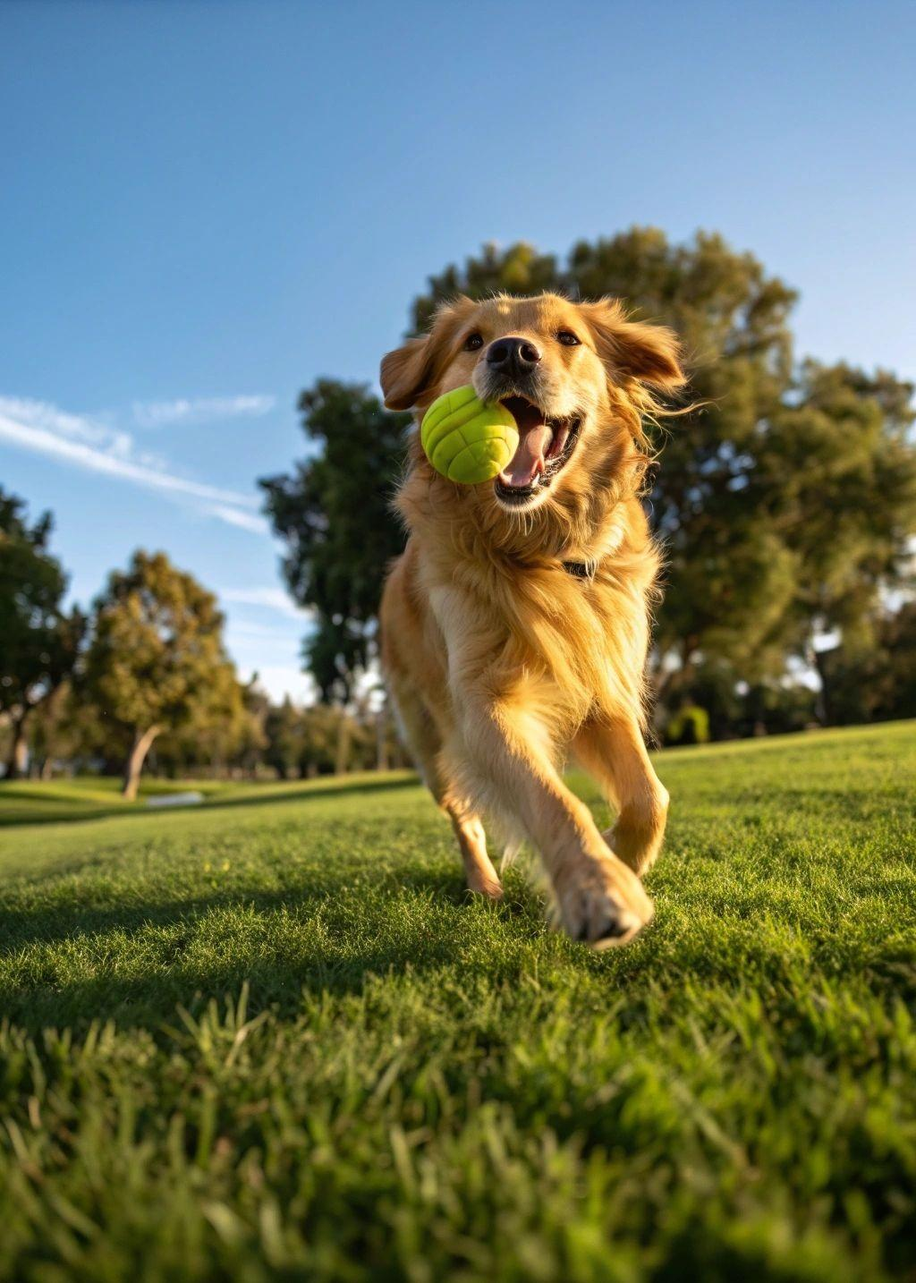adult_dog: (375, 288, 713, 950)
